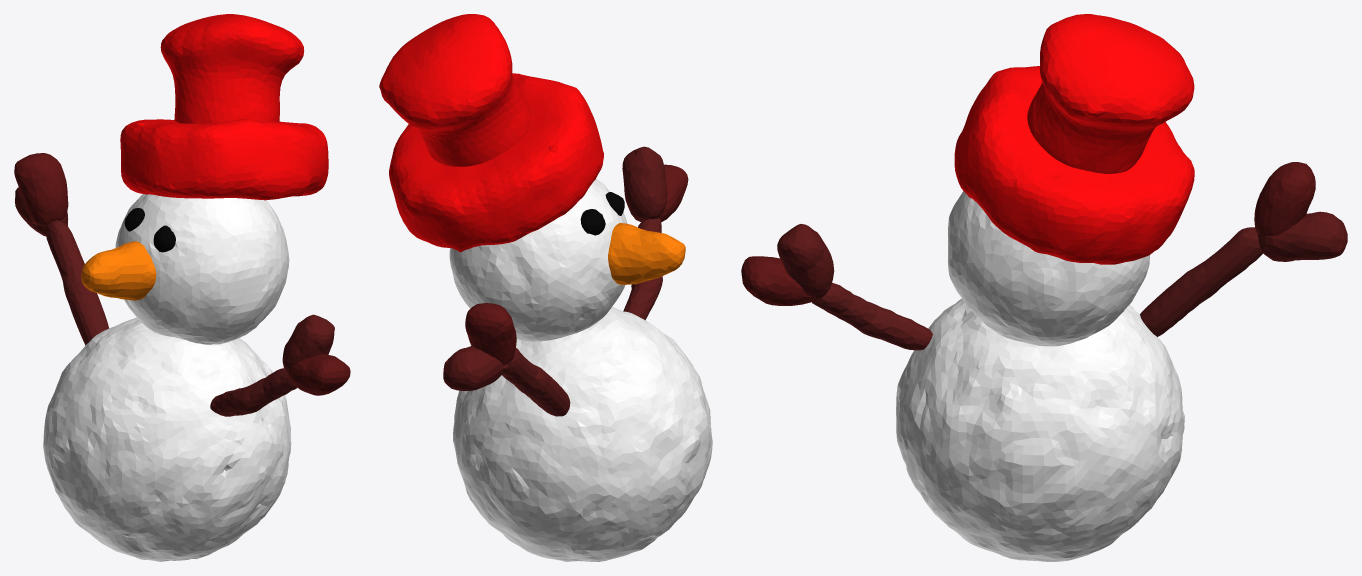
File: snowman_full.obj
The picture shows the model from 3 angles, left to right: view 1: azimuth 30°, elevation 25°; view 2: azimuth 150°, elevation 25°; view 3: azimuth 270°, elevation 25°; orthographic projection. The views are drawn at different scales.
Size of the model in its own units: 0.3518 by 0.6197 by 0.5899.
